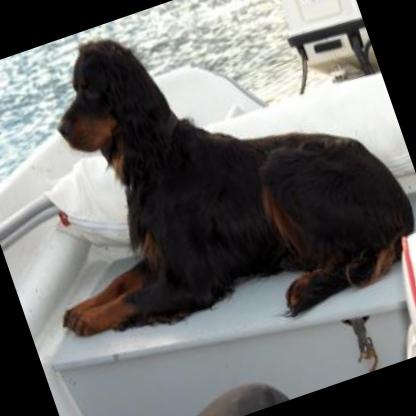Gordon_setter: (0, 0, 416, 385)
